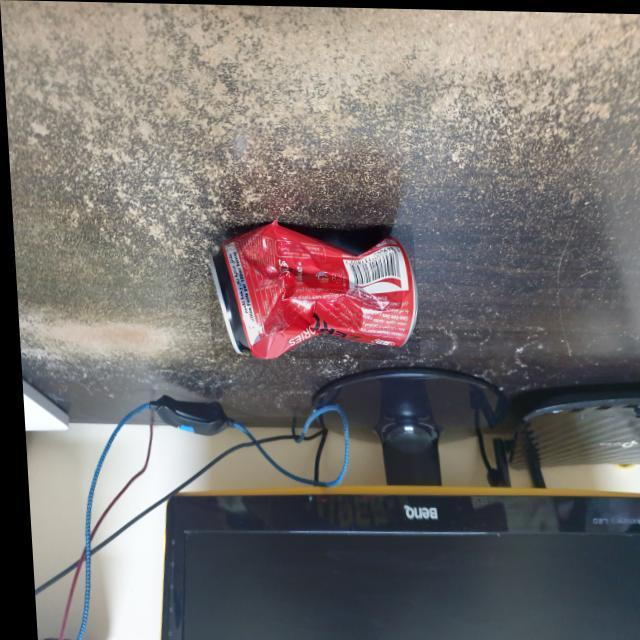trash: (202, 219, 416, 359)
